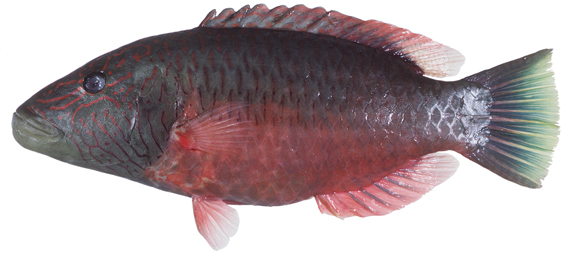fish: (12, 4, 561, 250)
